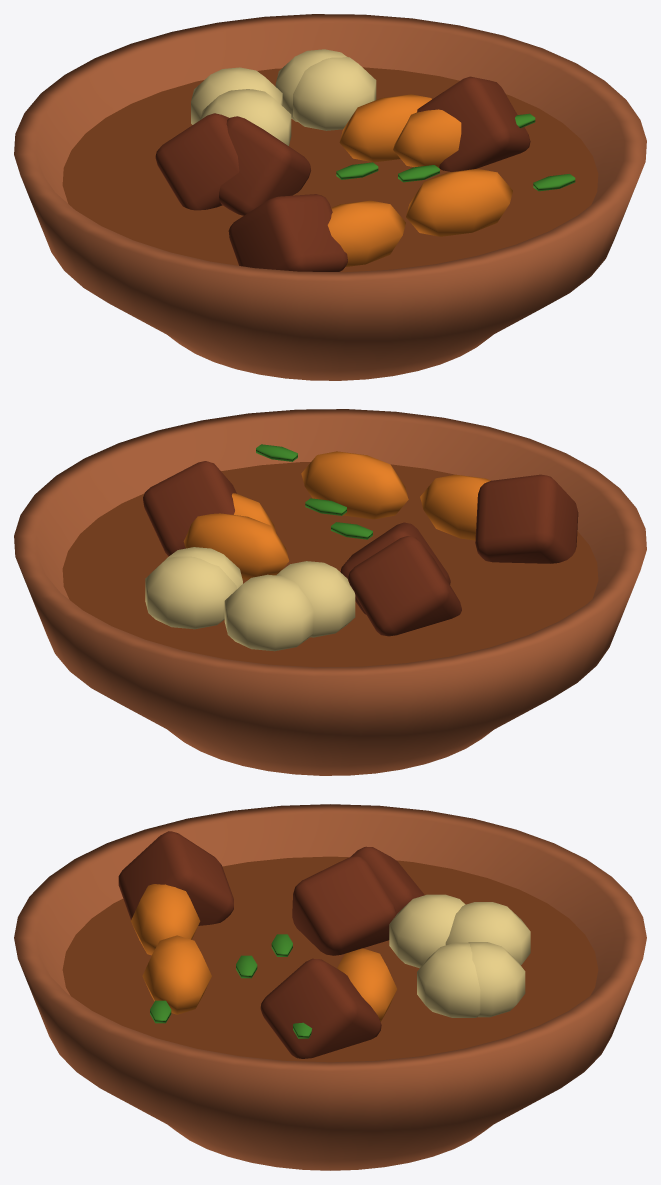
File: bauerneintopf.glb
3 renders of one model, top to bottom at view 1: azimuth 30°, elevation 25°; view 2: azimuth 150°, elevation 25°; view 3: azimuth 270°, elevation 25°, orthographic.
Visible parts, largest first — view 1: schale, inhalt, Cube.001, Cube.002, Sphere, Cube.003, Cube, Sphere.004, Sphere.002, Sphere.001, Sphere.003, Sphere.006 (+3 smaller); view 2: schale, inhalt, Cube.001, Cube.003, Sphere.007, Sphere.005, Sphere, Cube.002, Sphere.001, Sphere.006, Sphere.002, Cube (+2 smaller); view 3: schale, inhalt, Cube.002, Cube, Cube.001, Sphere.004, Sphere, Sphere.006, Sphere.002, Sphere.007, Sphere.005, Sphere.001 (+1 smaller).
Part boxes in pixels (x1=…): schale: x1=14, y1=14, x2=646, y2=380; inhalt: x1=62, y1=67, x2=598, y2=272; Cube.001: x1=228, y1=194, x2=347, y2=271; Cube.002: x1=417, y1=76, x2=530, y2=171; Sphere: x1=406, y1=168, x2=512, y2=236; Cube.003: x1=155, y1=113, x2=239, y2=210; Cube: x1=219, y1=116, x2=310, y2=215; Sphere.004: x1=293, y1=57, x2=376, y2=130; Sphere.002: x1=327, y1=200, x2=405, y2=266; Sphere.001: x1=339, y1=94, x2=431, y2=162; Sphere.003: x1=393, y1=109, x2=461, y2=167; Sphere.006: x1=200, y1=89, x2=291, y2=145; schale: x1=14, y1=409, x2=646, y2=775; inhalt: x1=62, y1=462, x2=598, y2=667; Cube.001: x1=475, y1=474, x2=578, y2=563; Cube.003: x1=348, y1=536, x2=461, y2=636; Sphere.007: x1=224, y1=574, x2=313, y2=651; Sphere.005: x1=145, y1=556, x2=236, y2=629; Sphere: x1=301, y1=451, x2=408, y2=519; Cube.002: x1=143, y1=461, x2=236, y2=556; Sphere.001: x1=183, y1=513, x2=289, y2=579; Sphere.006: x1=276, y1=561, x2=355, y2=637; Sphere.002: x1=420, y1=474, x2=490, y2=540; Cube: x1=340, y1=522, x2=450, y2=614; schale: x1=14, y1=804, x2=646, y2=1170; inhalt: x1=62, y1=856, x2=598, y2=1062; Cube.002: x1=260, y1=958, x2=381, y2=1058; Cube: x1=292, y1=856, x2=396, y2=955; Cube.001: x1=118, y1=831, x2=233, y2=925; Sphere.004: x1=417, y1=942, x2=480, y2=1017; Sphere: x1=142, y1=935, x2=211, y2=1014; Sphere.006: x1=389, y1=894, x2=465, y2=968; Sphere.002: x1=131, y1=884, x2=200, y2=955; Sphere.007: x1=445, y1=902, x2=530, y2=965; Sphere.005: x1=468, y1=942, x2=525, y2=1017; Sphere.001: x1=337, y1=948, x2=396, y2=1021.
Size of the model in its own units: 0.18 by 0.0635 by 0.18.
